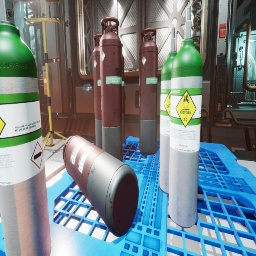0: (0, 0, 52, 256), (168, 2, 203, 228), (159, 24, 177, 194)
FireAlarm ,: (219, 23, 226, 38)
NitrogenTank ,: (62, 135, 139, 237), (99, 16, 123, 162), (139, 28, 158, 155), (93, 33, 103, 150), (121, 43, 125, 142)
SafetySwitchPanel ,: (42, 66, 53, 95)
